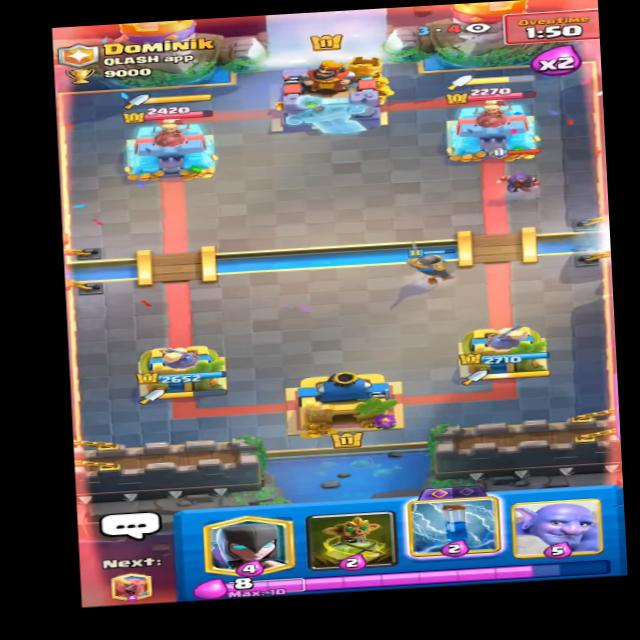evo-wizard: (487, 146, 552, 201)
